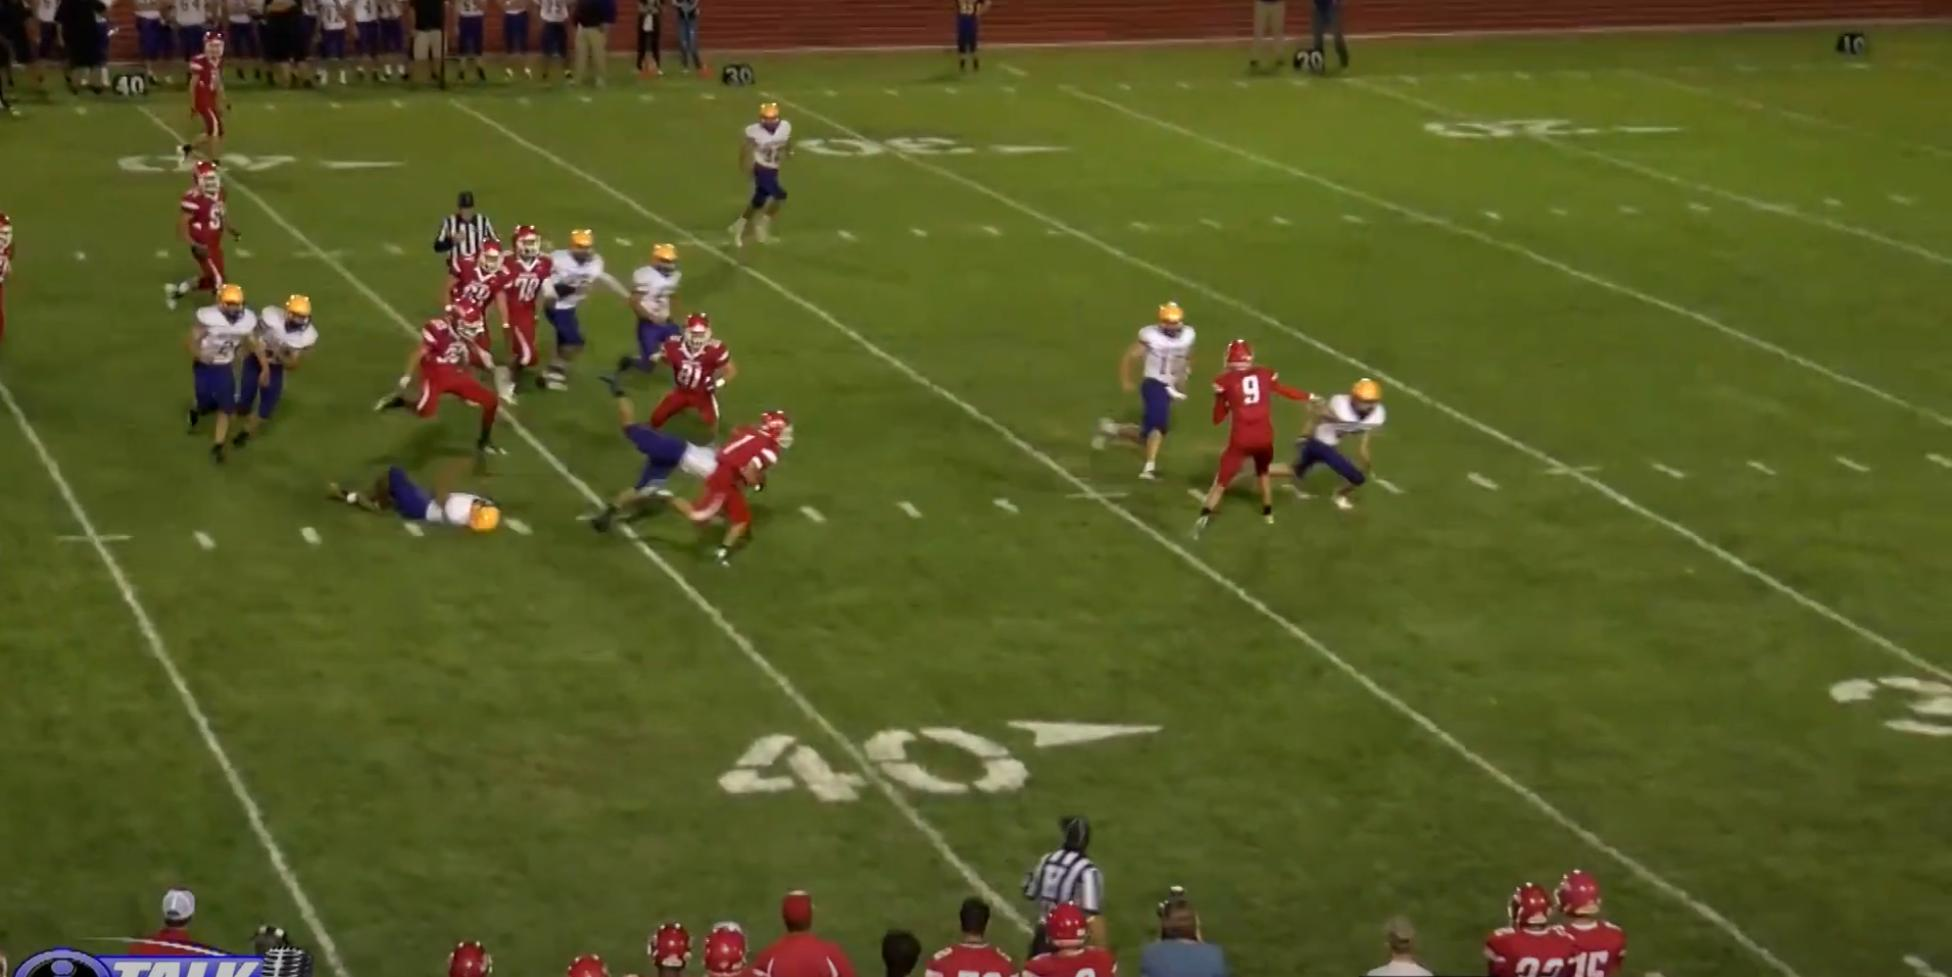20R: (1425, 117, 1688, 140)
30R: (1830, 673, 1952, 738), (794, 132, 1071, 157)
40R: (718, 718, 1166, 801), (118, 150, 404, 173)
